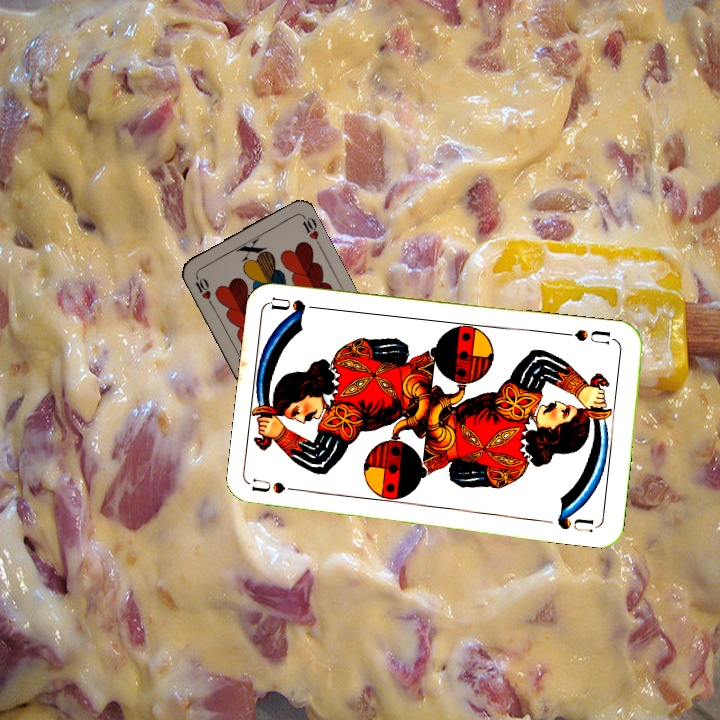H10: (191, 270, 215, 308)
SU: (250, 474, 310, 496), (559, 325, 614, 347)
